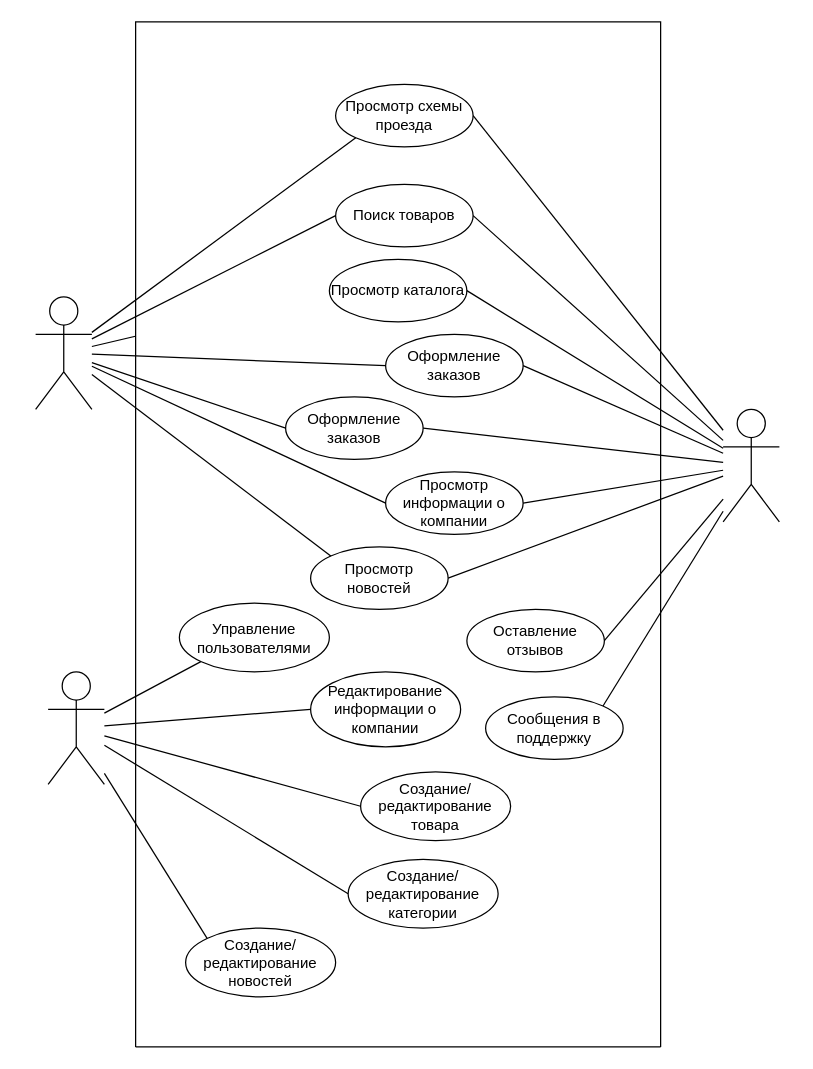
The diagram is 813 pixels wide and 1069 high, and some of its shapes have lost their labels. Each missing label, with the centre of its shape:
"Администратор" goes at (x=75, y=727).
"Гость" goes at (x=63, y=352).
"Покупатель" goes at (x=750, y=465).
